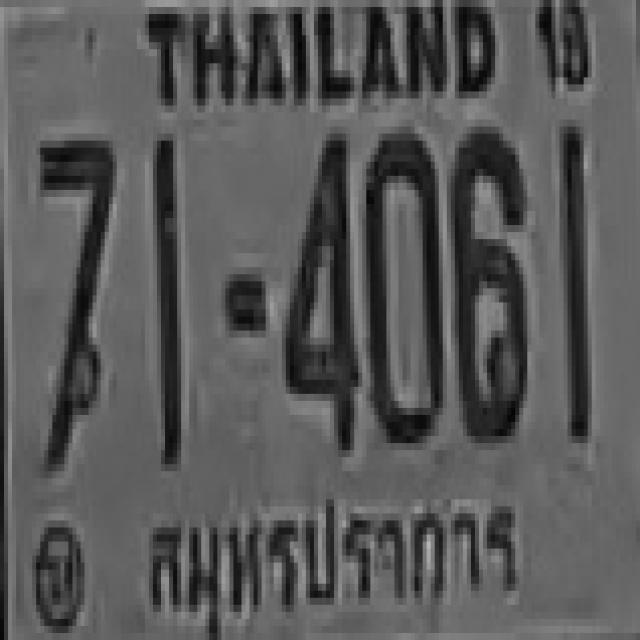0: (362, 130, 439, 440)
1: (151, 137, 179, 461), (558, 123, 586, 440)
4: (282, 127, 354, 443)
6: (449, 127, 525, 436)
7: (36, 134, 113, 464)
SamutPrakan: (142, 494, 520, 624)
